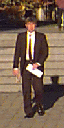person: (11, 16, 49, 116)
